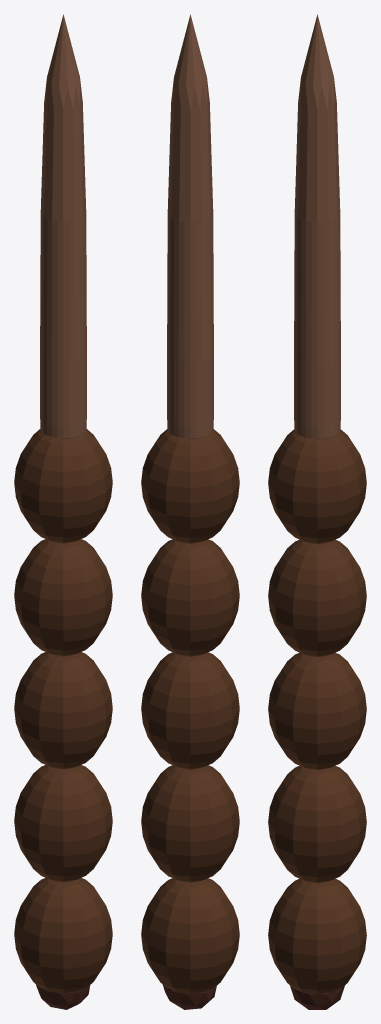
Rendered from Wand 200.glb.
3 renders of one model, left to right at view 1: azimuth 30°, elevation 25°; view 2: azimuth 210°, elevation 25°; view 3: azimuth 270°, elevation 25°, orthographic.
Visible parts, largest first — view 1: GeneratedWand; view 2: GeneratedWand; view 3: GeneratedWand.
Boxes of the visible parts, left/top/right/bottom form: GeneratedWand: left=14, top=14, right=112, bottom=1009; GeneratedWand: left=141, top=14, right=239, bottom=1009; GeneratedWand: left=268, top=14, right=366, bottom=1009.
Bounding box in the file's own units: 0.0447 × 0.499 × 0.0449.
